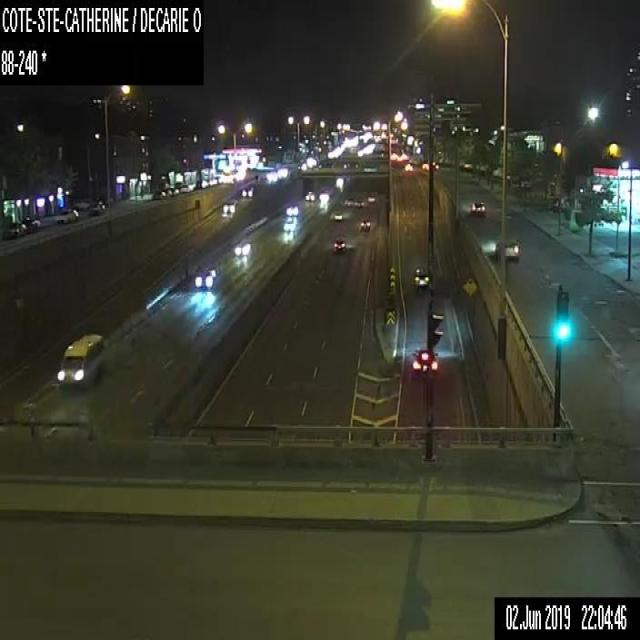vehicle: (56, 334, 102, 389), (411, 348, 438, 374), (495, 236, 519, 261), (194, 265, 217, 289), (55, 209, 78, 224), (413, 265, 429, 286), (234, 239, 252, 255), (6, 222, 26, 236), (85, 201, 104, 215), (283, 216, 296, 231), (222, 199, 237, 212), (241, 183, 254, 197), (27, 220, 40, 233), (472, 201, 486, 213), (334, 238, 346, 251), (286, 203, 298, 215), (319, 190, 330, 202), (360, 218, 370, 231), (151, 190, 165, 199), (305, 190, 315, 201), (354, 199, 363, 207), (170, 187, 179, 195), (181, 184, 189, 192), (343, 199, 352, 206), (404, 163, 412, 170), (164, 189, 171, 196), (334, 212, 341, 219), (367, 195, 375, 201), (422, 162, 428, 170)
